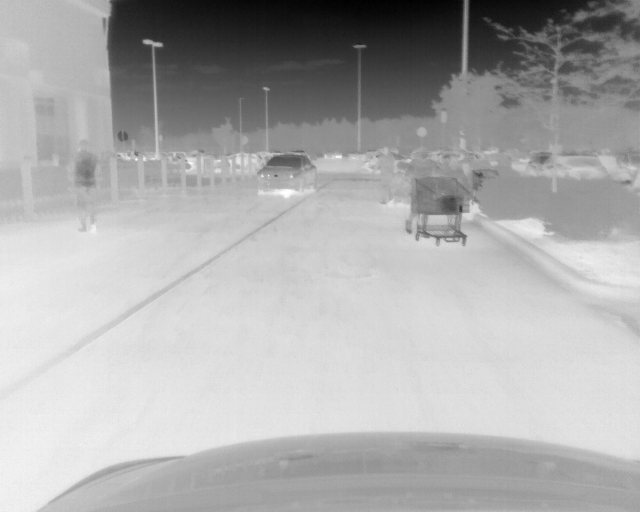car: (253, 154, 316, 191)
people: (406, 148, 440, 240), (69, 136, 99, 233), (442, 152, 470, 239), (373, 150, 395, 208)
